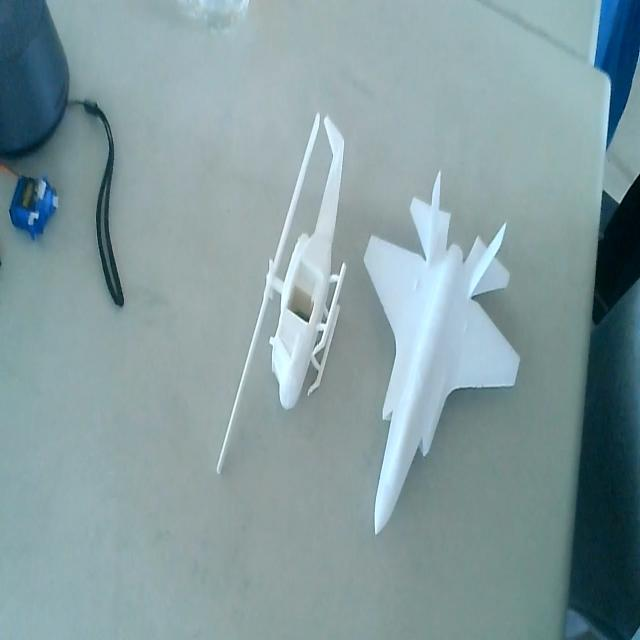Helicopter: (210, 110, 350, 475)
Jet: (362, 170, 521, 540)
